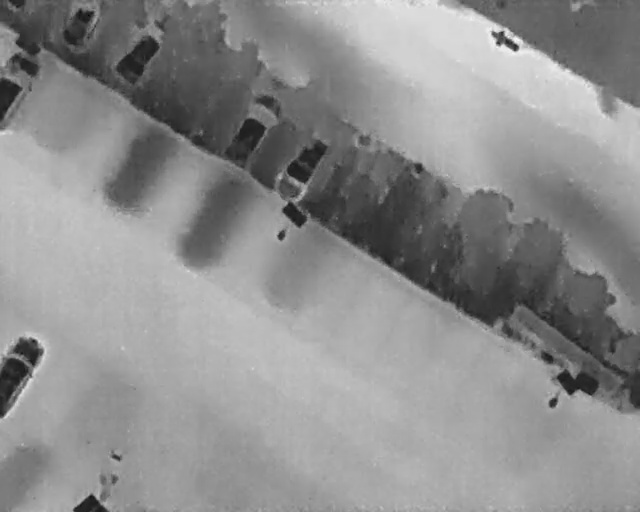Bicycle: (484, 22, 526, 60)
Car: (108, 3, 193, 94), (217, 84, 293, 176), (265, 122, 341, 210), (0, 333, 46, 422), (0, 48, 41, 131), (60, 0, 106, 50), (4, 0, 27, 12)
